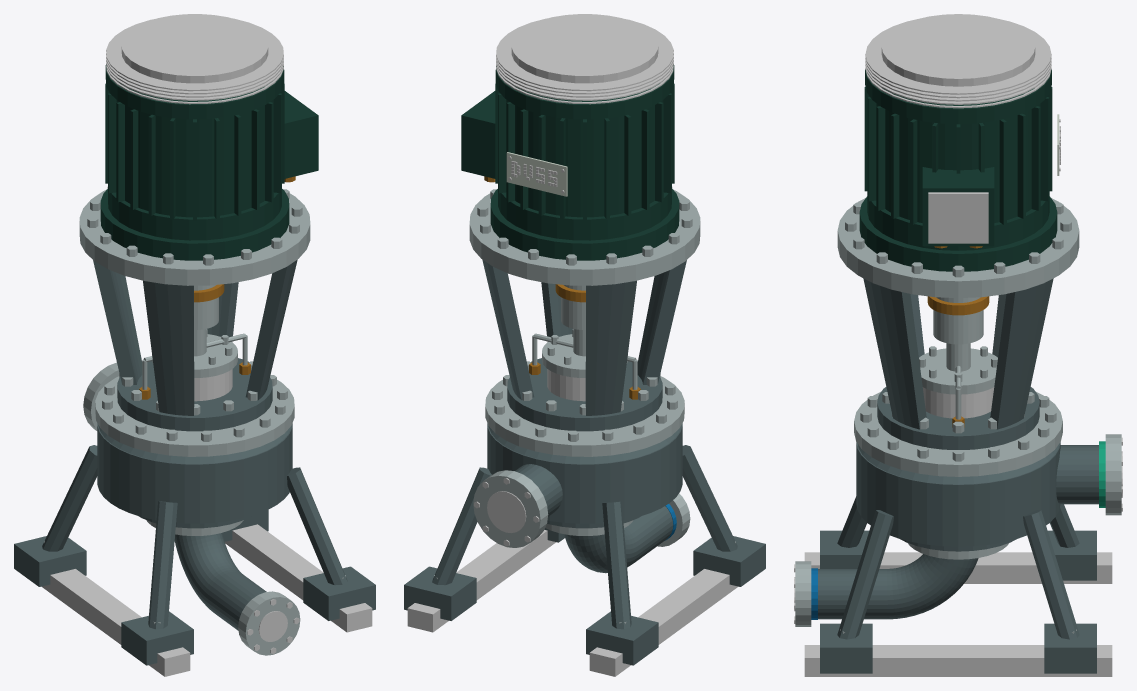
File: compact.obj
3 views of the same model, side by side, from view 1: azimuth 30°, elevation 25°; view 2: azimuth 150°, elevation 25°; view 3: azimuth 270°, elevation 25° (orthographic). The views are drawn at different scales.
Size of the model in its own units: 0.391 by 0.9 by 0.4646.
